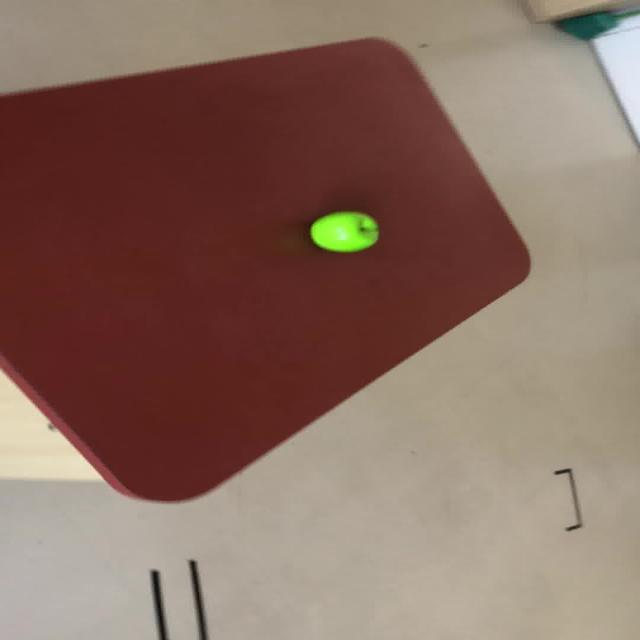apple: (307, 210, 378, 252)
